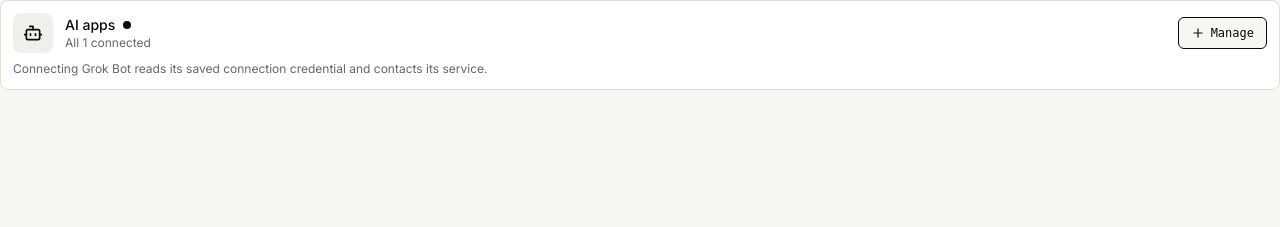
Test: AiToolsCard › shows the last confirmed Grok Bot connection without reconnecting
Expected: the text "All 1 connected" is shown, left=65, top=35, right=151, bottom=51
What coordinates should you click on to do the following:
click the button "Manage"
I would click on:
 (1222, 33)
Its box is left=1178, top=17, right=1267, bottom=49.
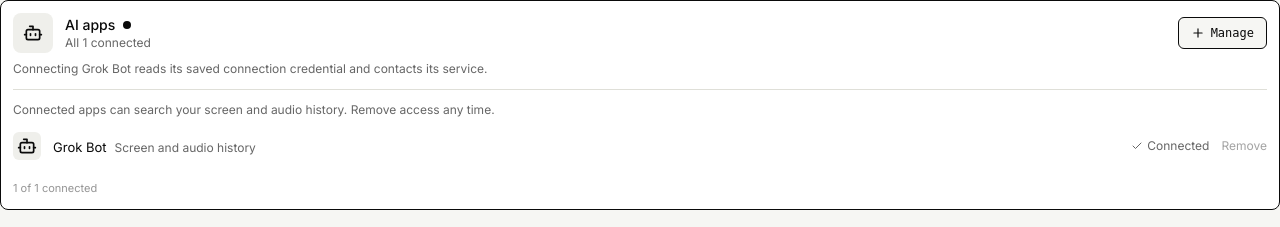
Result: the text "Grok Bot" is shown at left=53, top=139, right=106, bottom=155
